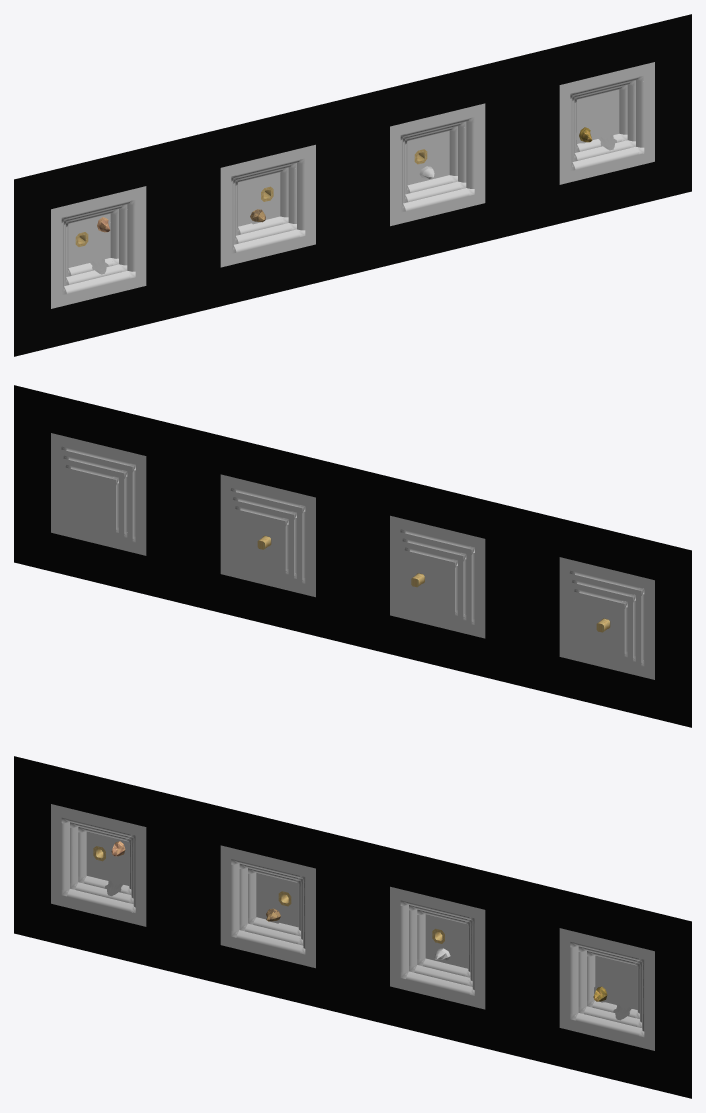
The model's file is Navel-Cave-West-3.obj.
3 views of the same model, one above another, from view 1: azimuth 30°, elevation 25°; view 2: azimuth 150°, elevation 25°; view 3: azimuth 330°, elevation 25° (orthographic).
Parts seen in each view (by area): view 1: map; view 2: map; view 3: map.
Boxes of the visible parts, x1,y1,x2,y2 form: map: (14,14,691,356); map: (14,385,691,727); map: (14,756,691,1098).
Size of the model in its own units: 128 by 32 by 4.88.
